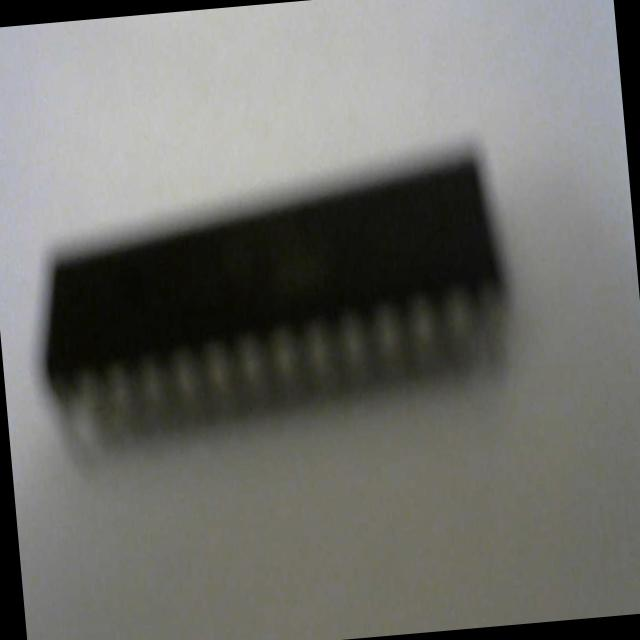atmega: (22, 136, 525, 467)
